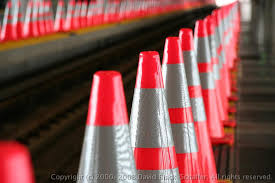cones: (163, 28, 218, 182), (131, 50, 183, 182), (77, 70, 137, 183)
